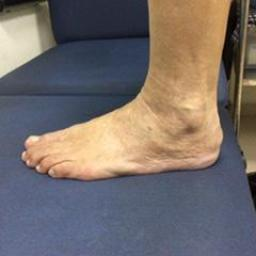Lateral View -Left Foot-: (15, 72, 231, 188)
